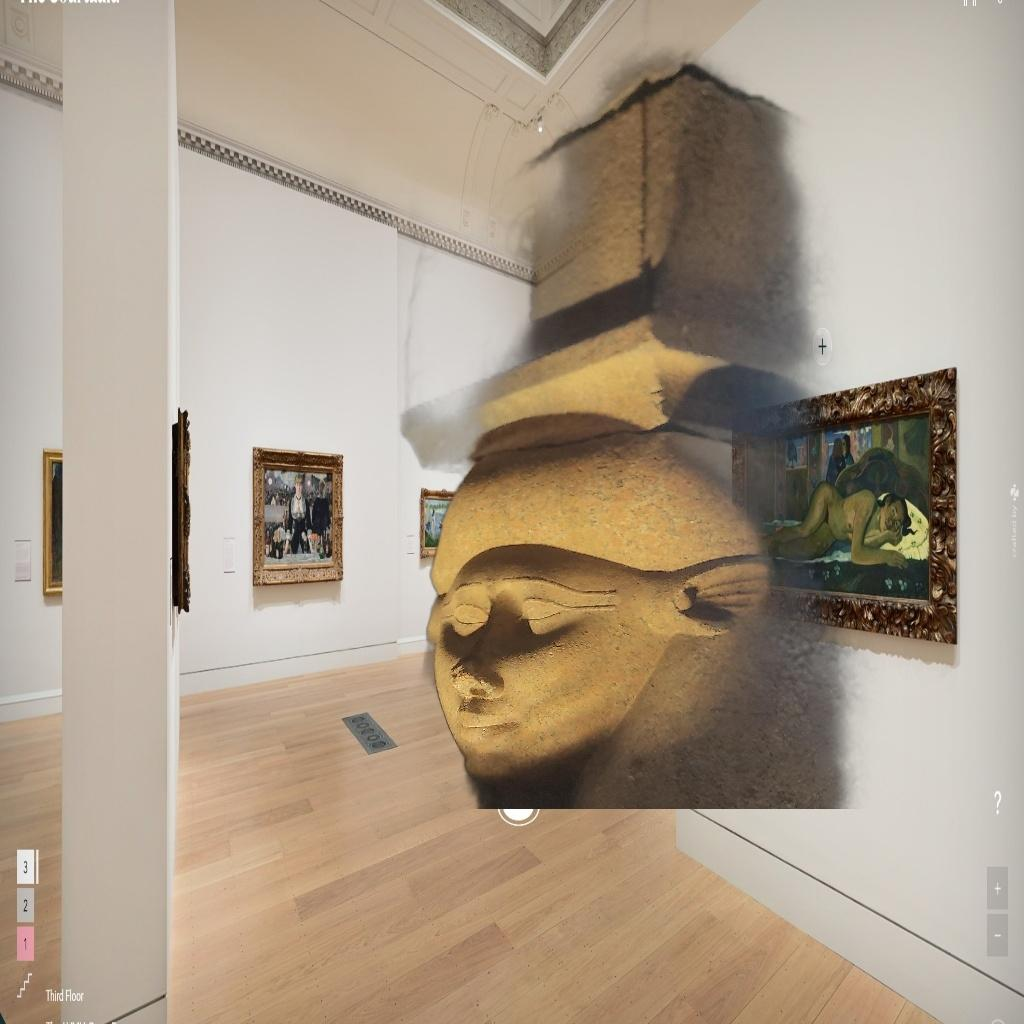Hathor Capital: (396, 0, 990, 809)
